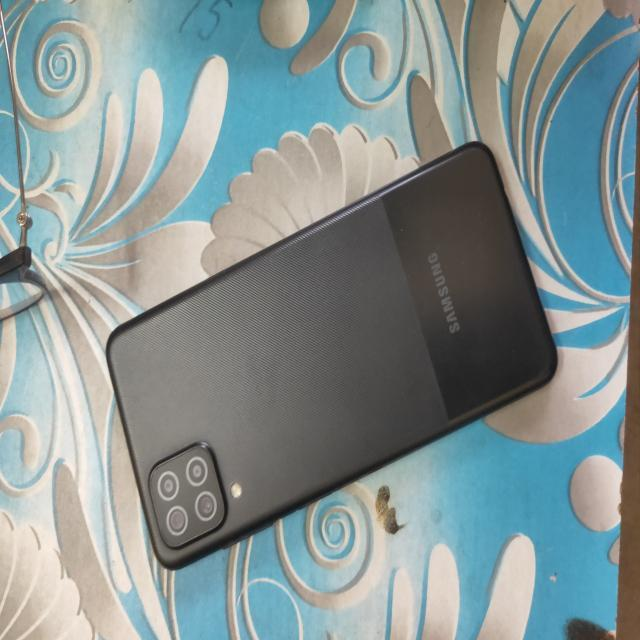Phone: (103, 135, 568, 578)
